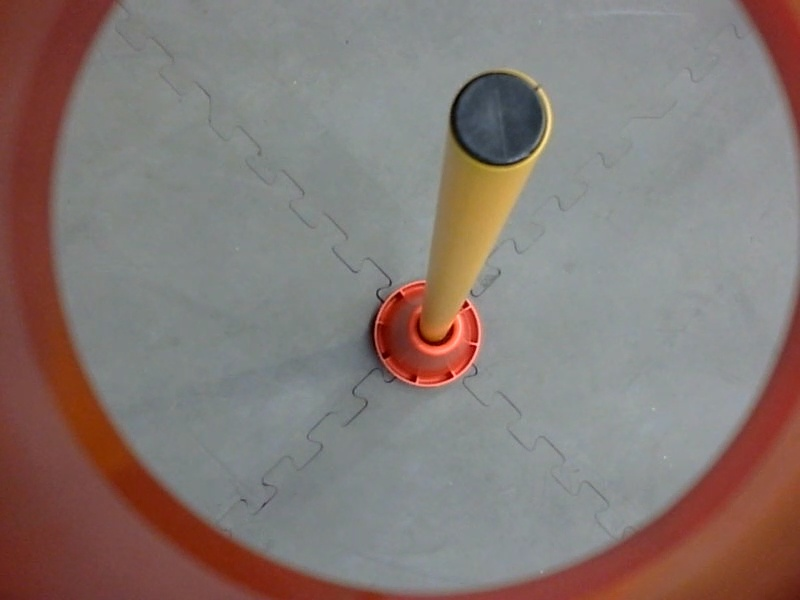tip: (441, 59, 558, 177)
